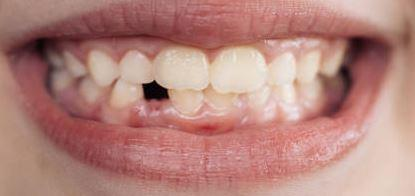Hypodontia: (138, 85, 174, 106)
